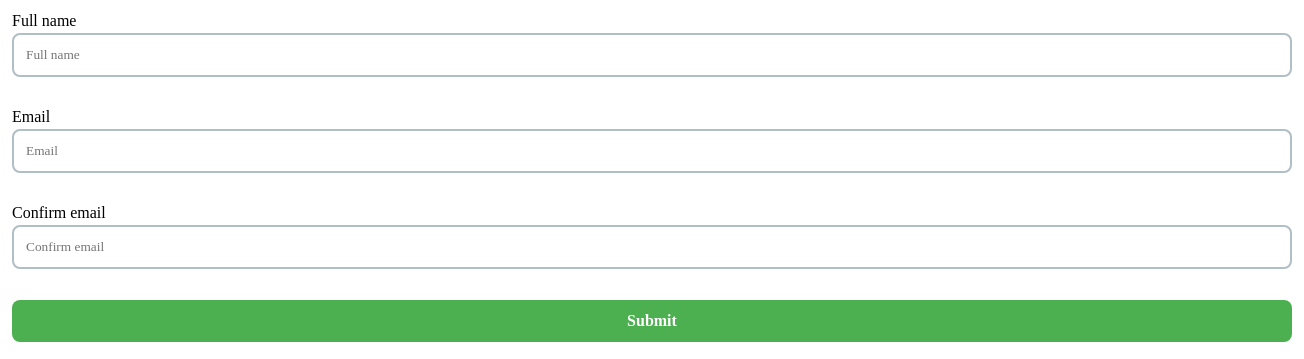
Test: InviteModalForm › shows required validation message for all fields
Step 1. Click the button "Submit" → {"x": 652, "y": 321}, box left=12, top=300, right=1292, bottom=342
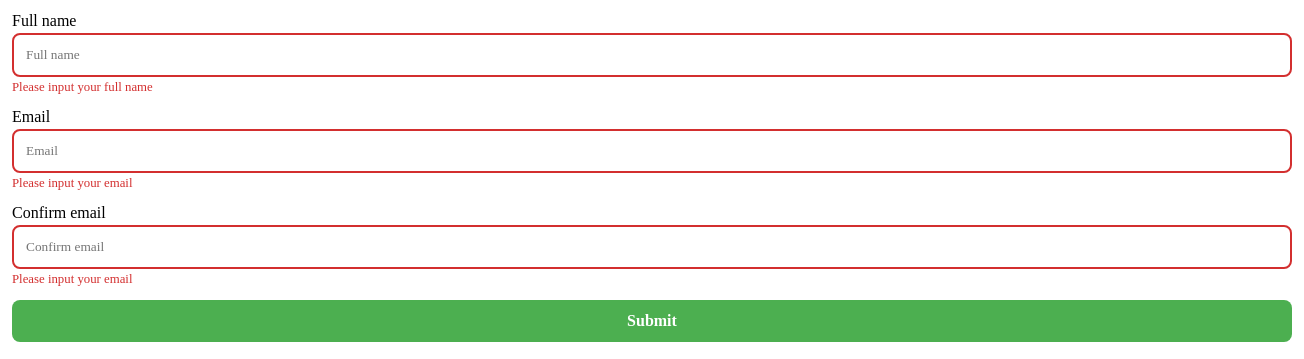
Expected: the text "Please input your full name" is shown, left=12, top=80, right=153, bottom=94
Expected: the text "Please input your email" is shown 2 times, left=12, top=176, right=132, bottom=190; left=12, top=272, right=132, bottom=286
